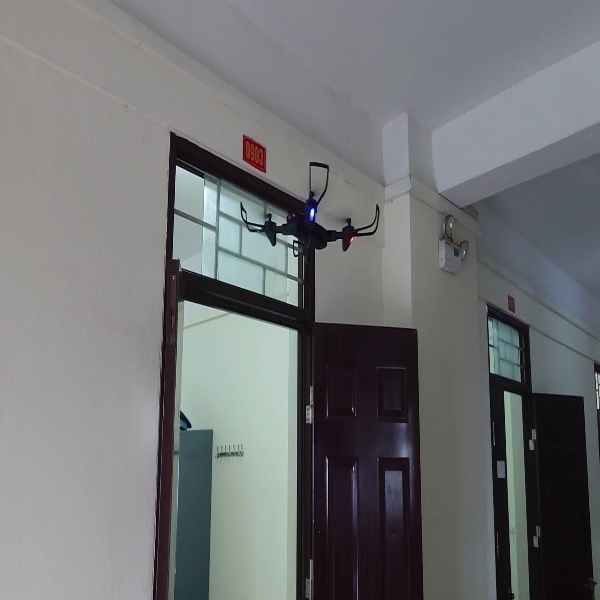drone: (237, 158, 383, 263)
